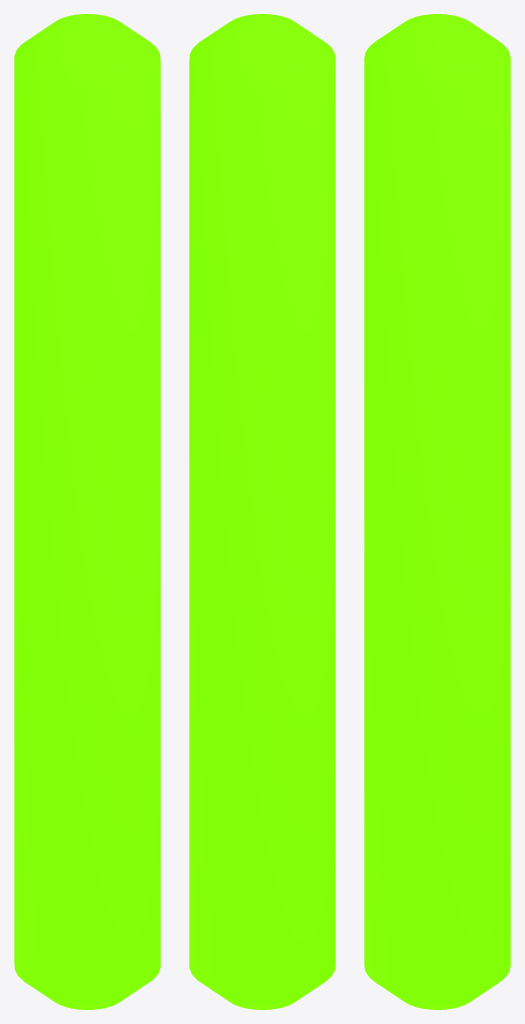
The model's file is Uranium_Rod.fbx.
3 renders of one model, left to right at view 1: azimuth 30°, elevation 25°; view 2: azimuth 150°, elevation 25°; view 3: azimuth 270°, elevation 25°, orthographic.
Visible parts, largest first — view 1: Circle; view 2: Circle; view 3: Circle.
Part boxes in pixels (x1,y1,x2,y2): Circle: (14,14,160,1009); Circle: (189,14,335,1009); Circle: (364,14,510,1009).
Size of the model in its own units: 1.16 by 8.73 by 1.16.
